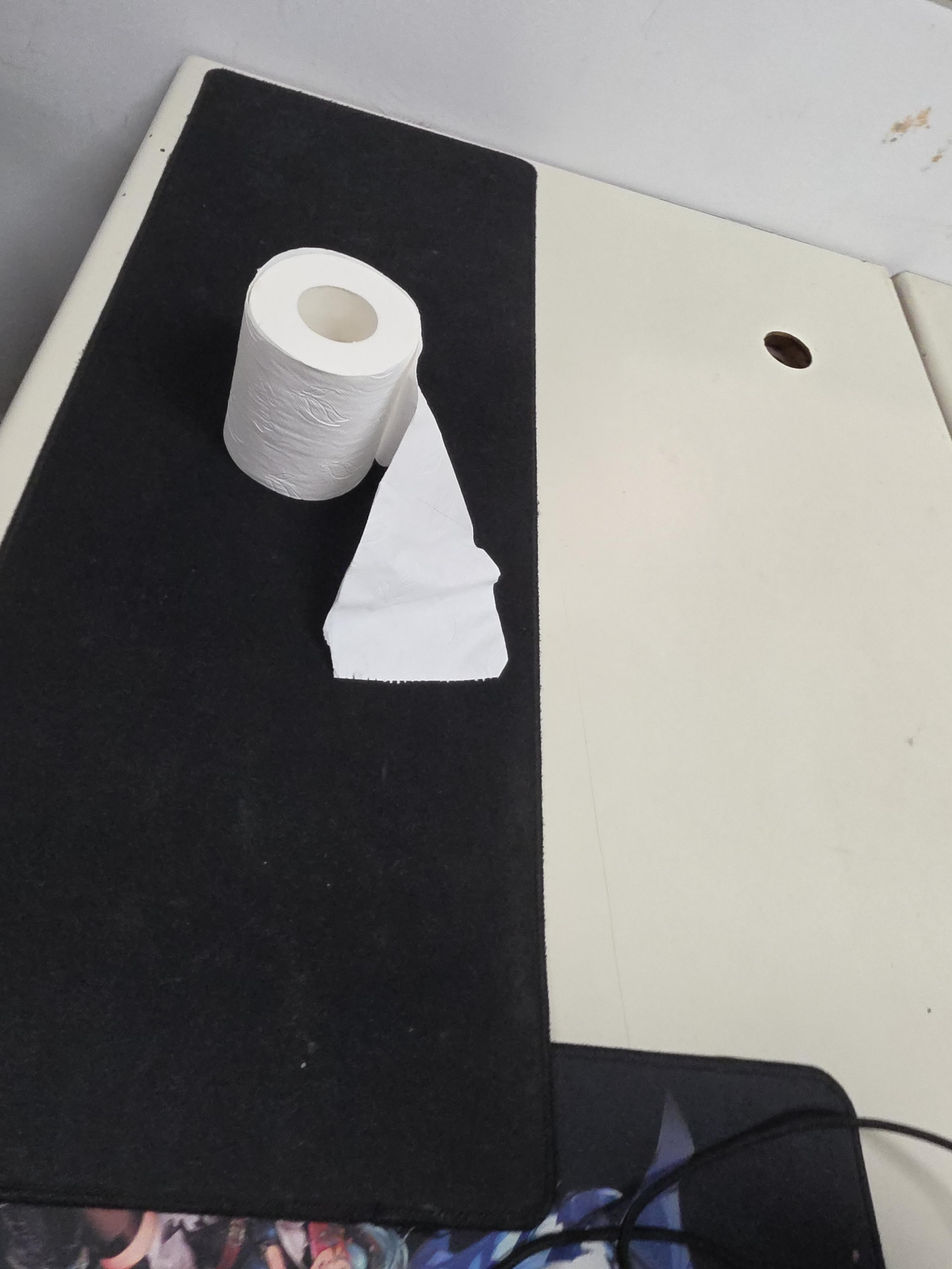tissue: (223, 247, 508, 682)
